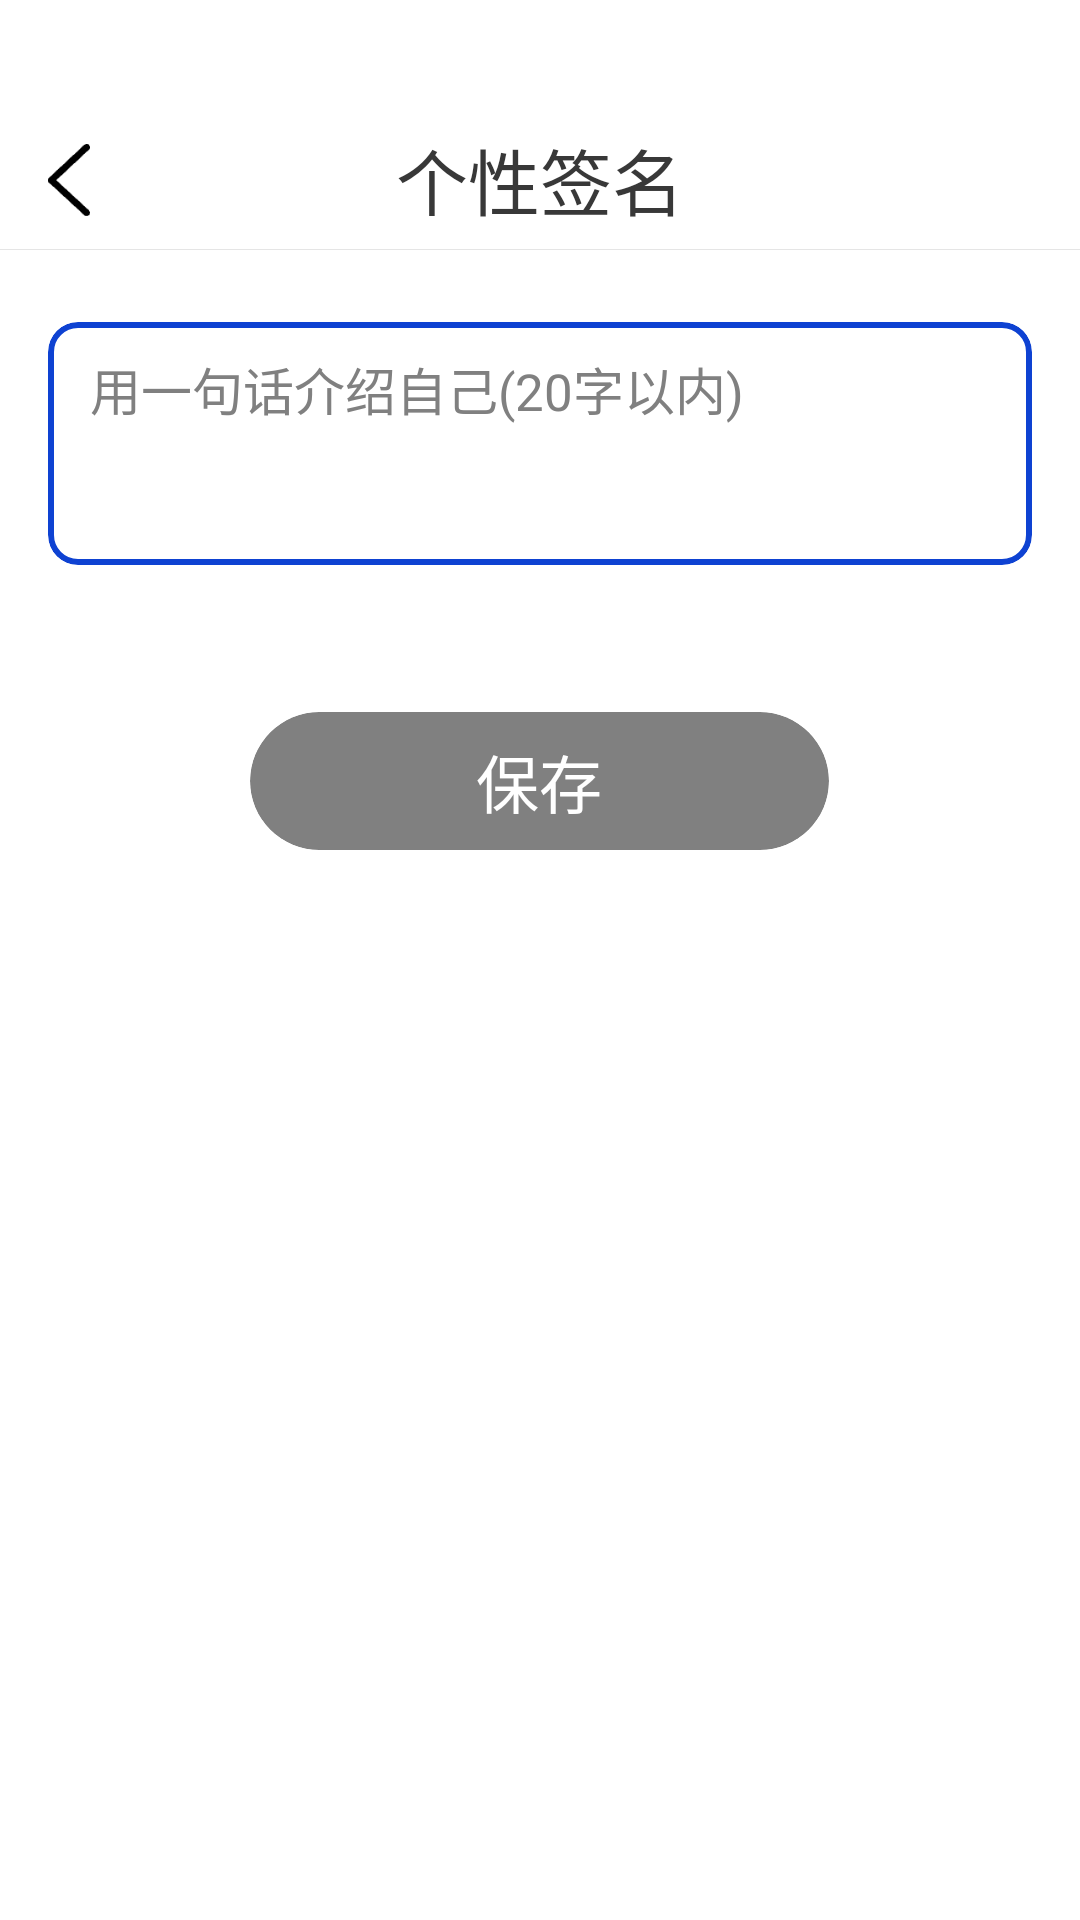

Named icons in this screenshot (1080*1920) and their centers, [x,y]:
back: [69,180]
